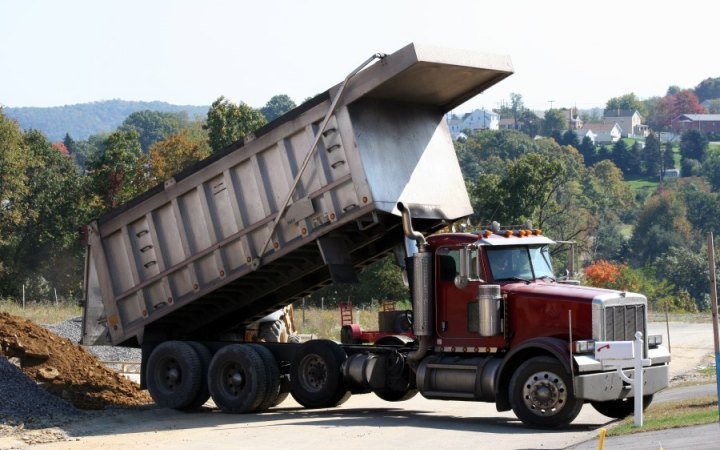truck: (80, 42, 677, 428)
